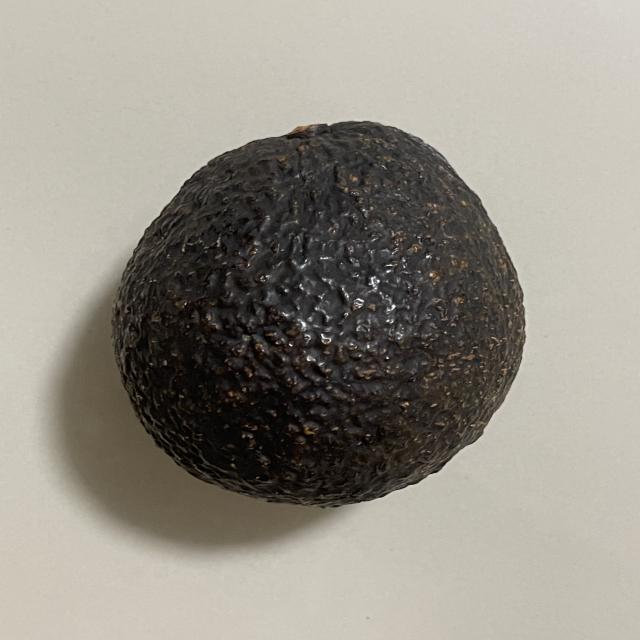Level3: (102, 108, 538, 516)
